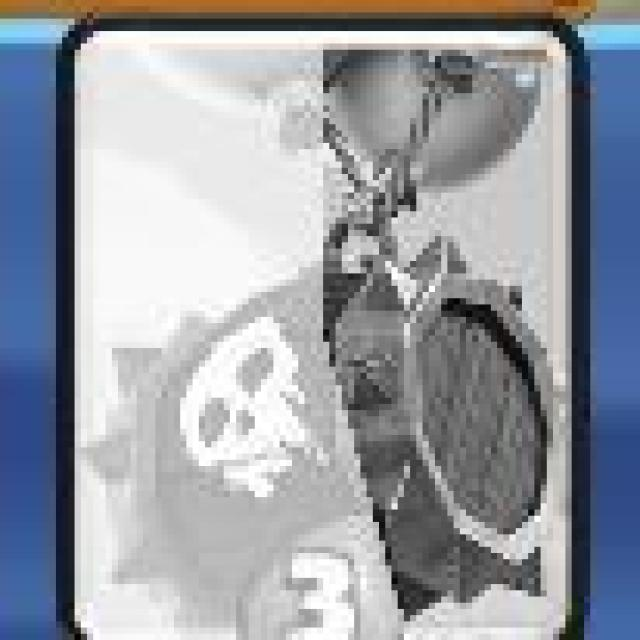Skeleton_Barrel: (58, 13, 588, 640)
